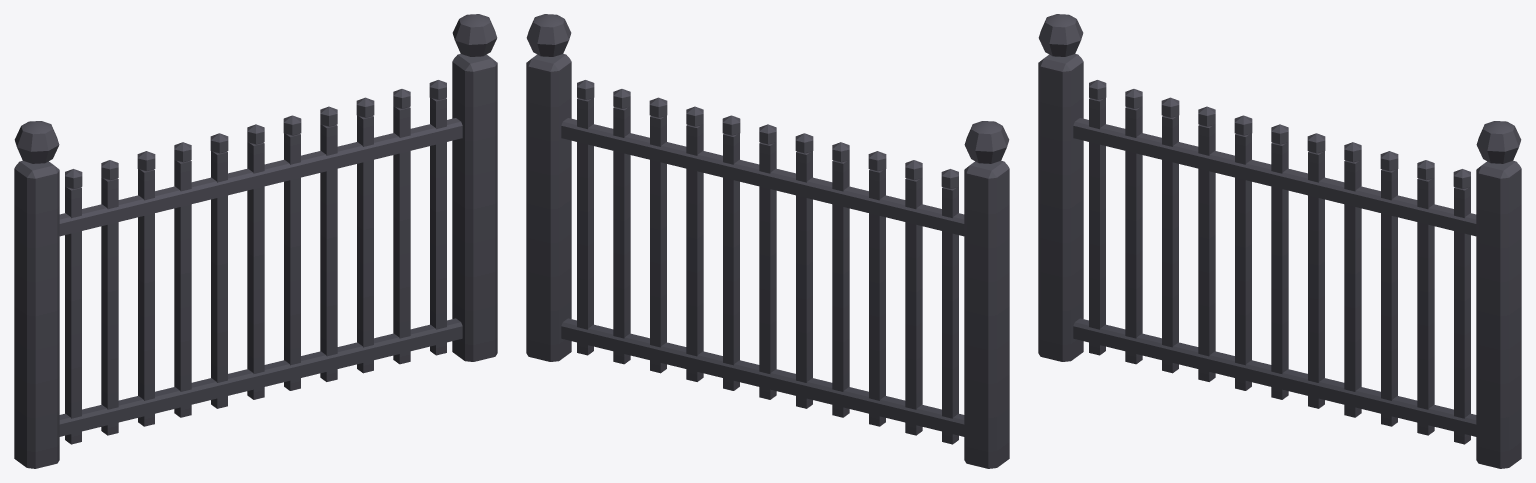
Rendered from iron_fence_panel.glb.
3 renders of one model, left to right at view 1: azimuth 30°, elevation 25°; view 2: azimuth 150°, elevation 25°; view 3: azimuth 330°, elevation 25°, orthographic.
Visible parts, largest first — view 1: iron_fence_panel; view 2: iron_fence_panel; view 3: iron_fence_panel.
Boxes of the visible parts, x1,y1,x2,y2 form: iron_fence_panel: (14, 14, 497, 468); iron_fence_panel: (526, 14, 1009, 468); iron_fence_panel: (1038, 14, 1521, 468).
Size of the model in its own units: 2.62 by 1.77 by 0.22.
Materials: 1 (1 with a texture image).
